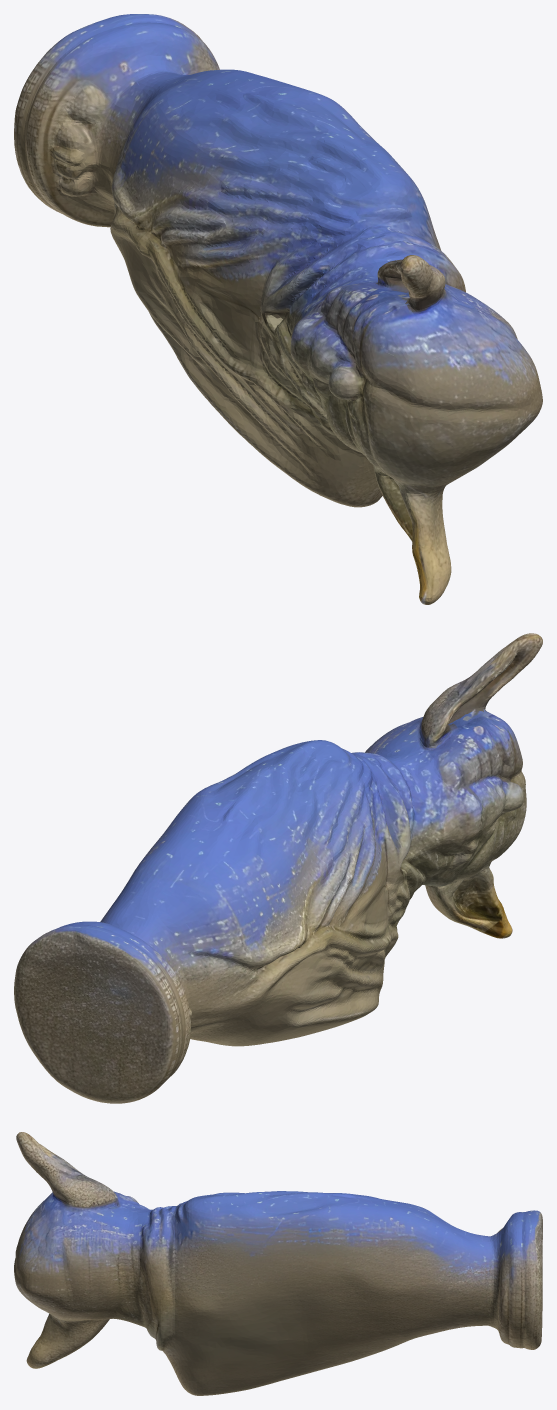
The model's file is yoda-bust.glb.
3 renders of one model, top to bottom at view 1: azimuth 30°, elevation 25°; view 2: azimuth 150°, elevation 25°; view 3: azimuth 270°, elevation 25°, orthographic. The views are drawn at different scales.
Parts seen in each view (by area): view 1: yoda bust_textured.obj; view 2: yoda bust_textured.obj; view 3: yoda bust_textured.obj.
Boxes of the visible parts, x1,y1,x2,y2 form: yoda bust_textured.obj: (14,14,542,604); yoda bust_textured.obj: (14,633,542,1103); yoda bust_textured.obj: (14,1132,542,1395).
Size of the model in its own units: 0.6562 by 0.9656 by 1.98.
1 material, 1 textured.
